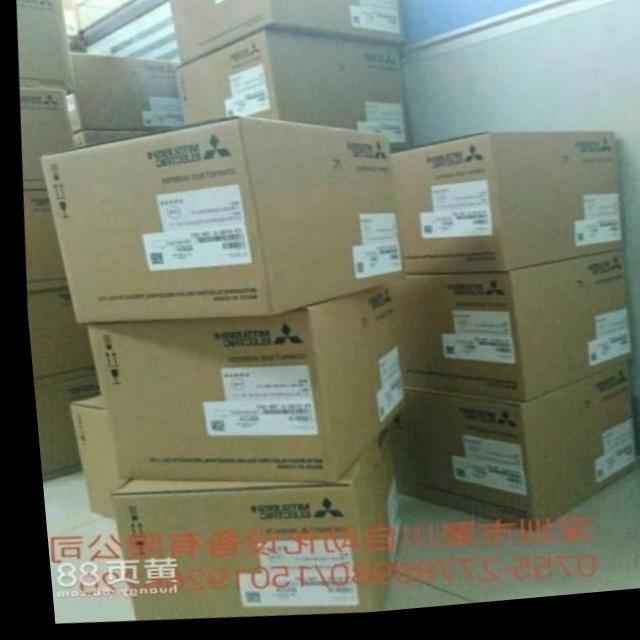box: (37, 120, 402, 323), (79, 288, 398, 485), (101, 430, 388, 621), (379, 375, 629, 539), (385, 259, 628, 410), (385, 142, 618, 283), (172, 34, 409, 159), (168, 0, 406, 70), (66, 54, 181, 136), (27, 368, 94, 482), (63, 398, 120, 523), (23, 291, 88, 380), (20, 86, 67, 190), (18, 0, 67, 91), (21, 190, 64, 291), (67, 132, 160, 152)
